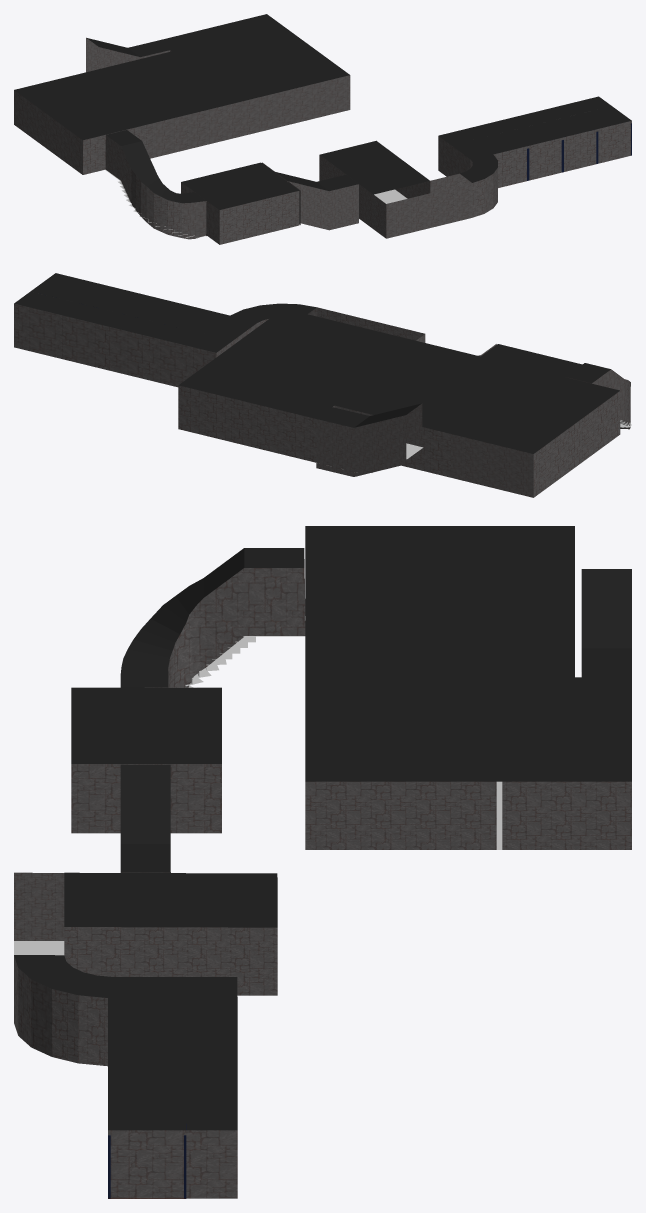
Rendered from lvl1_proxy.fbx.
The picture shows the model from 3 angles, top to bottom: view 1: azimuth 30°, elevation 25°; view 2: azimuth 150°, elevation 25°; view 3: azimuth 270°, elevation 25°; orthographic projection. The views are drawn at different scales.
Visible parts, largest first — view 1: Celing_03, Floor_015, Room_1_Walls008, Ceiling_2, Room_4_wall_001, Floor_016, Object002, Room_3_Wall_2, Floor_019, Room_1_Walls009, Floor_020, Room_1_Walls003 (+19 smaller); view 2: Celing_03, Floor_015, Room_1_Walls005, Ceiling_2, Room_5_wall3, Floor_016, StairWalls_003, Jail_ceiling, Room_2_wall_002, Room_2_wall_1, Floor_017, Room_3_Wall_1 (+7 smaller); view 3: Celing_03, Floor_015, Ceiling_2, Floor_016, Room_4_wall_008, Floor_019, Floor_020, Room_1_Walls011, Jail_ceiling, stairway2_wall_r, Room_5_wall_4, Room_1_Walls007 (+8 smaller).
Boxes of the visible parts, x1,y1,x2,y2 form: Celing_03: (80,51,240,124); Floor_015: (192,39,349,101); Room_1_Walls008: (493,121,631,187); Ceiling_2: (14,74,147,140); Room_4_wall_001: (241,75,350,136); Floor_016: (158,14,300,65); Object002: (105,135,206,239); Room_3_Wall_2: (148,102,240,158); Floor_019: (320,140,429,194); Room_1_Walls009: (386,183,472,238); Floor_020: (181,162,298,209); Room_1_Walls003: (219,191,299,244); Celing_03: (335,342,537,433); Floor_015: (222,308,420,386); Room_1_Walls005: (14,303,216,387); Ceiling_2: (451,370,619,453); Room_5_wall3: (178,385,316,462); Floor_016: (179,353,359,418); StairWalls_003: (316,415,406,476); Jail_ceiling: (31,273,229,333); Room_2_wall_002: (533,391,620,497); Room_2_wall_1: (451,434,533,497); Floor_017: (14,291,232,352); Room_3_Wall_1: (334,405,450,477); Celing_03: (305,588,574,677); Floor_015: (305,677,496,781); Ceiling_2: (305,526,574,588); Floor_016: (496,677,631,781); Room_4_wall_008: (305,781,496,849); Floor_019: (64,872,277,927); Floor_020: (71,687,221,763); Room_1_Walls011: (64,927,277,995); Jail_ceiling: (108,998,186,1130); stairway2_wall_r: (168,568,305,687); Room_5_wall_4: (502,781,631,849); Room_1_Walls007: (108,1130,237,1198).
Bounding box in the file's own units: 7725 × 1846 × 4232.
